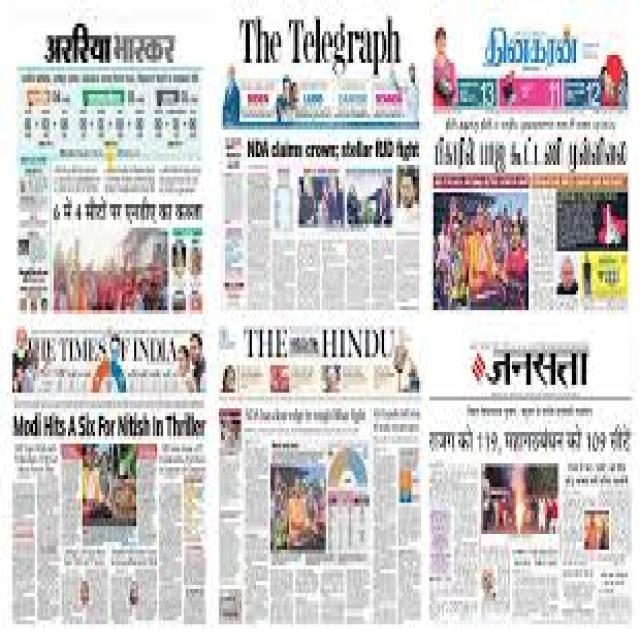paper: (12, 15, 639, 640)
